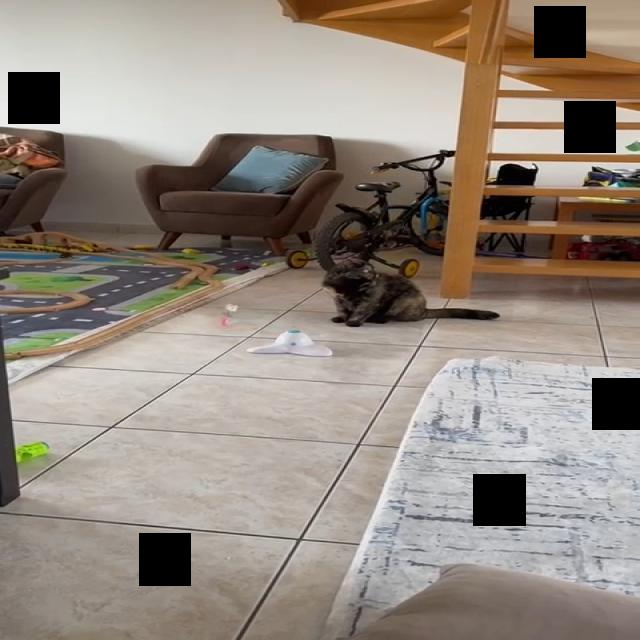authorized: (320, 254, 499, 327)
